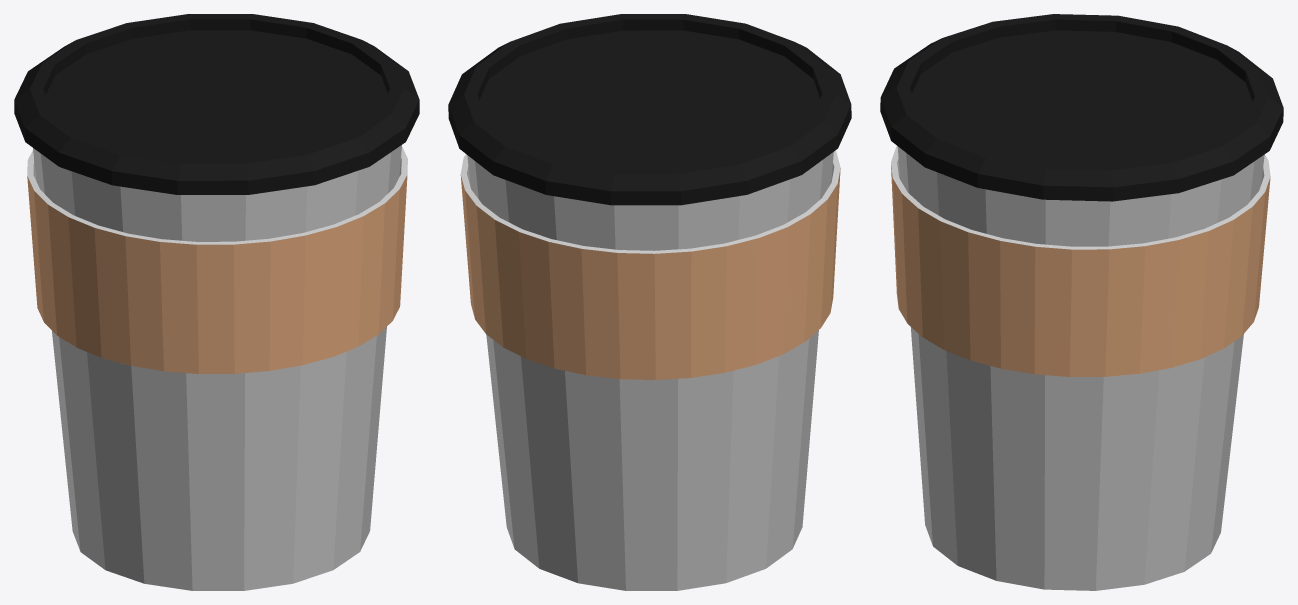
File: coffee_2.glb
The picture shows the model from 3 angles, left to right: view 1: azimuth 30°, elevation 25°; view 2: azimuth 150°, elevation 25°; view 3: azimuth 270°, elevation 25°; orthographic projection.
Visible parts, largest first — view 1: coffee_2; view 2: coffee_2; view 3: coffee_2.
Boxes of the visible parts, x1,y1,x2,y2 form: coffee_2: (14,14,419,590); coffee_2: (448,14,851,590); coffee_2: (880,14,1283,590).
Bounding box in the file's own units: 0.1568 × 0.1922 × 0.1588.
